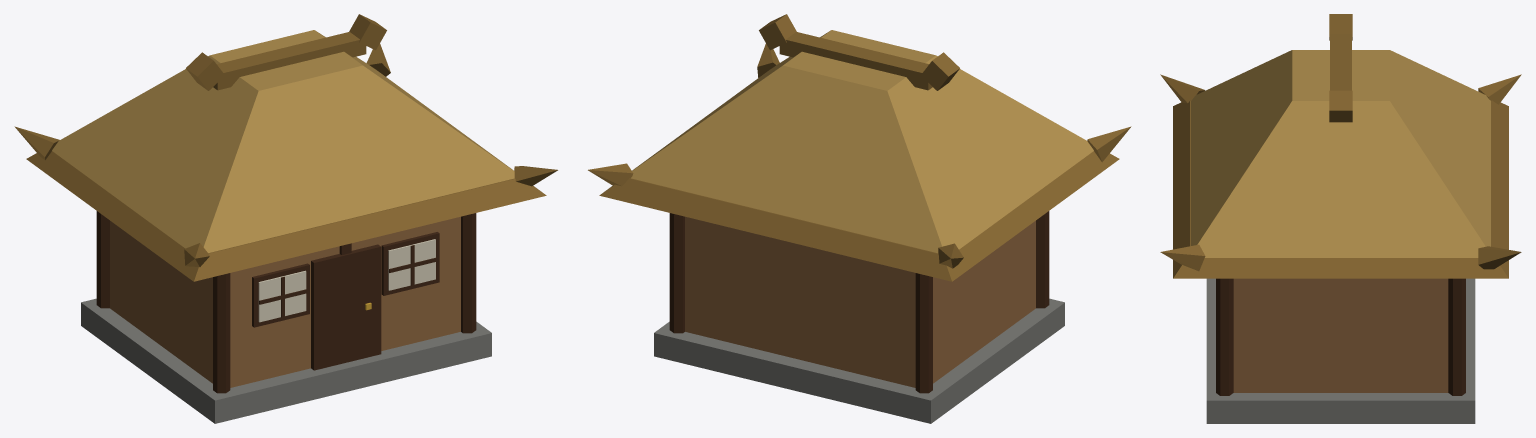
File: SM_GZ_house_green_2.fbx
The picture shows the model from 3 angles, left to right: view 1: azimuth 30°, elevation 25°; view 2: azimuth 150°, elevation 25°; view 3: azimuth 270°, elevation 25°; orthographic projection.
Parts seen in each view (by area): view 1: SM_GZ_house_green_2; view 2: SM_GZ_house_green_2; view 3: SM_GZ_house_green_2.
Part boxes in pixels (x1,y1,x2,y2): SM_GZ_house_green_2: [14, 14, 557, 423]; SM_GZ_house_green_2: [588, 14, 1131, 423]; SM_GZ_house_green_2: [1160, 14, 1521, 423].
Bounding box in the file's own units: 814 × 649 × 700.
